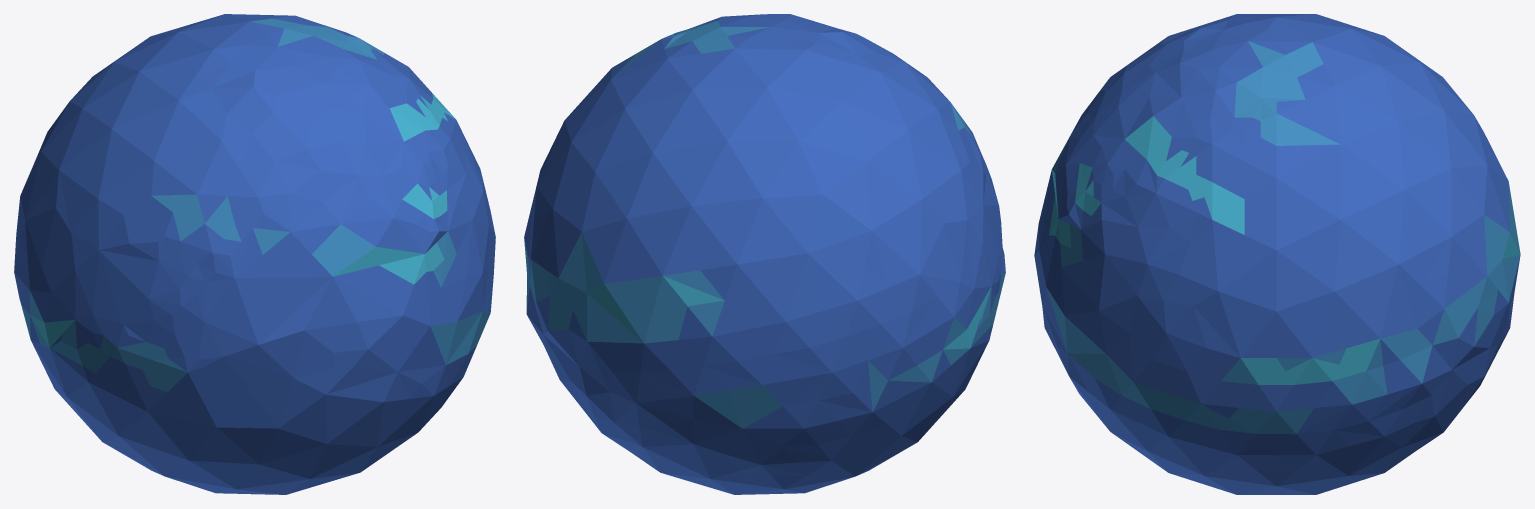
File: neptune.glb
3 views of the same model, side by side, from view 1: azimuth 30°, elevation 25°; view 2: azimuth 150°, elevation 25°; view 3: azimuth 270°, elevation 25° (orthographic).
Parts seen in each view (by area): view 1: neptune; view 2: neptune; view 3: neptune.
Part boxes in pixels (left/top/right/bottom): neptune: left=14, top=14, right=495, bottom=494; neptune: left=524, top=14, right=1005, bottom=494; neptune: left=1034, top=14, right=1520, bottom=494.
Bounding box in the file's own units: 3.45 × 3.44 × 3.47.
Materials: 1 (1 with a texture image).
